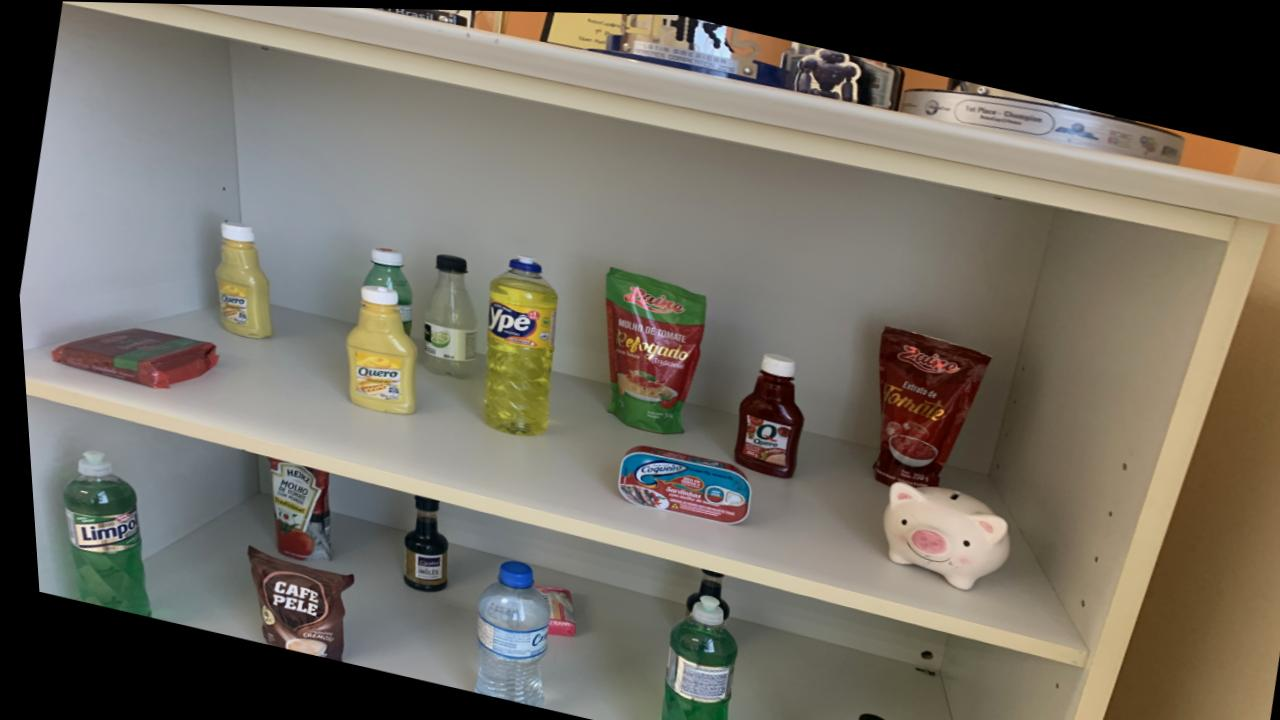Coffee-Pantry_Items: (240, 545, 346, 659)
Detergent-Cleanup_Items: (55, 451, 142, 615), (477, 256, 553, 434), (650, 592, 728, 720)
English_Sauce-Pantry_Items: (395, 494, 441, 591), (676, 567, 721, 617), (846, 710, 880, 720)
Guarana-Drinks: (360, 247, 409, 334)
Guava-Snacks: (46, 327, 213, 388)
Ketchup-Pantry_Items: (727, 350, 798, 475)
Mustard-Pantry_Items: (340, 283, 412, 413), (211, 221, 268, 338)
Pig_Safe-Miscellaneous: (876, 478, 1003, 586)
Soap-Cleanup_Items: (527, 584, 567, 635)
Soda-Drinks: (419, 252, 473, 376)
Tomato_Sauce-Pantry_Items: (866, 324, 985, 483), (600, 265, 702, 431), (262, 458, 323, 559)
Tuna_Can-Pantry_Items: (610, 443, 745, 522)
Water_Bottle-Drinks: (464, 558, 542, 704)
